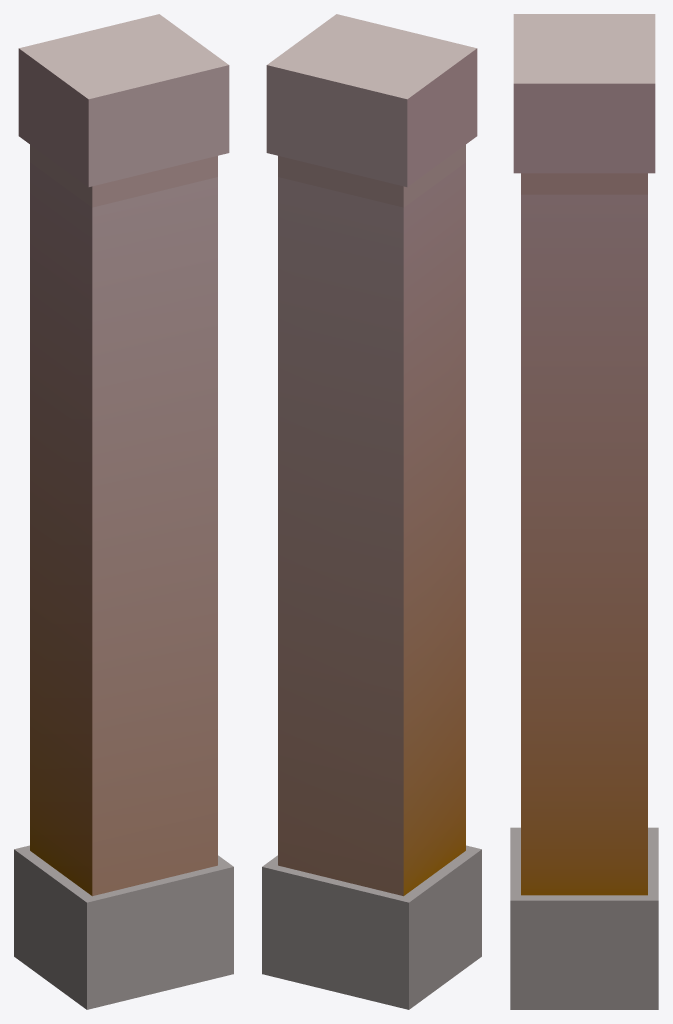
File: Prop_Wallend.glb
3 views of the same model, side by side, from view 1: azimuth 30°, elevation 25°; view 2: azimuth 150°, elevation 25°; view 3: azimuth 270°, elevation 25° (orthographic).
Visible parts, largest first — view 1: Prop_Wallend; view 2: Prop_Wallend; view 3: Prop_Wallend.
Boxes of the visible parts, x1=… form: Prop_Wallend: x1=14, y1=14, x2=233, y2=1009; Prop_Wallend: x1=262, y1=14, x2=481, y2=1009; Prop_Wallend: x1=510, y1=14, x2=658, y2=1009.
Size of the model in its own units: 0.0953 by 0.563 by 0.0819.
